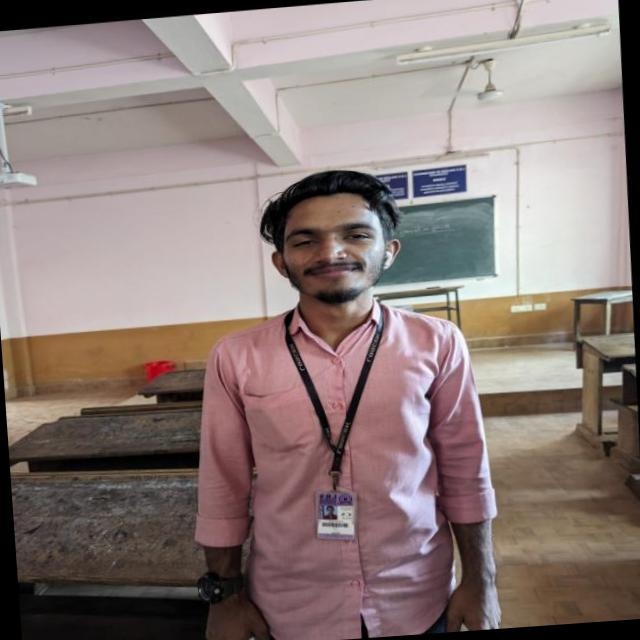id_card: (286, 312, 389, 540)
